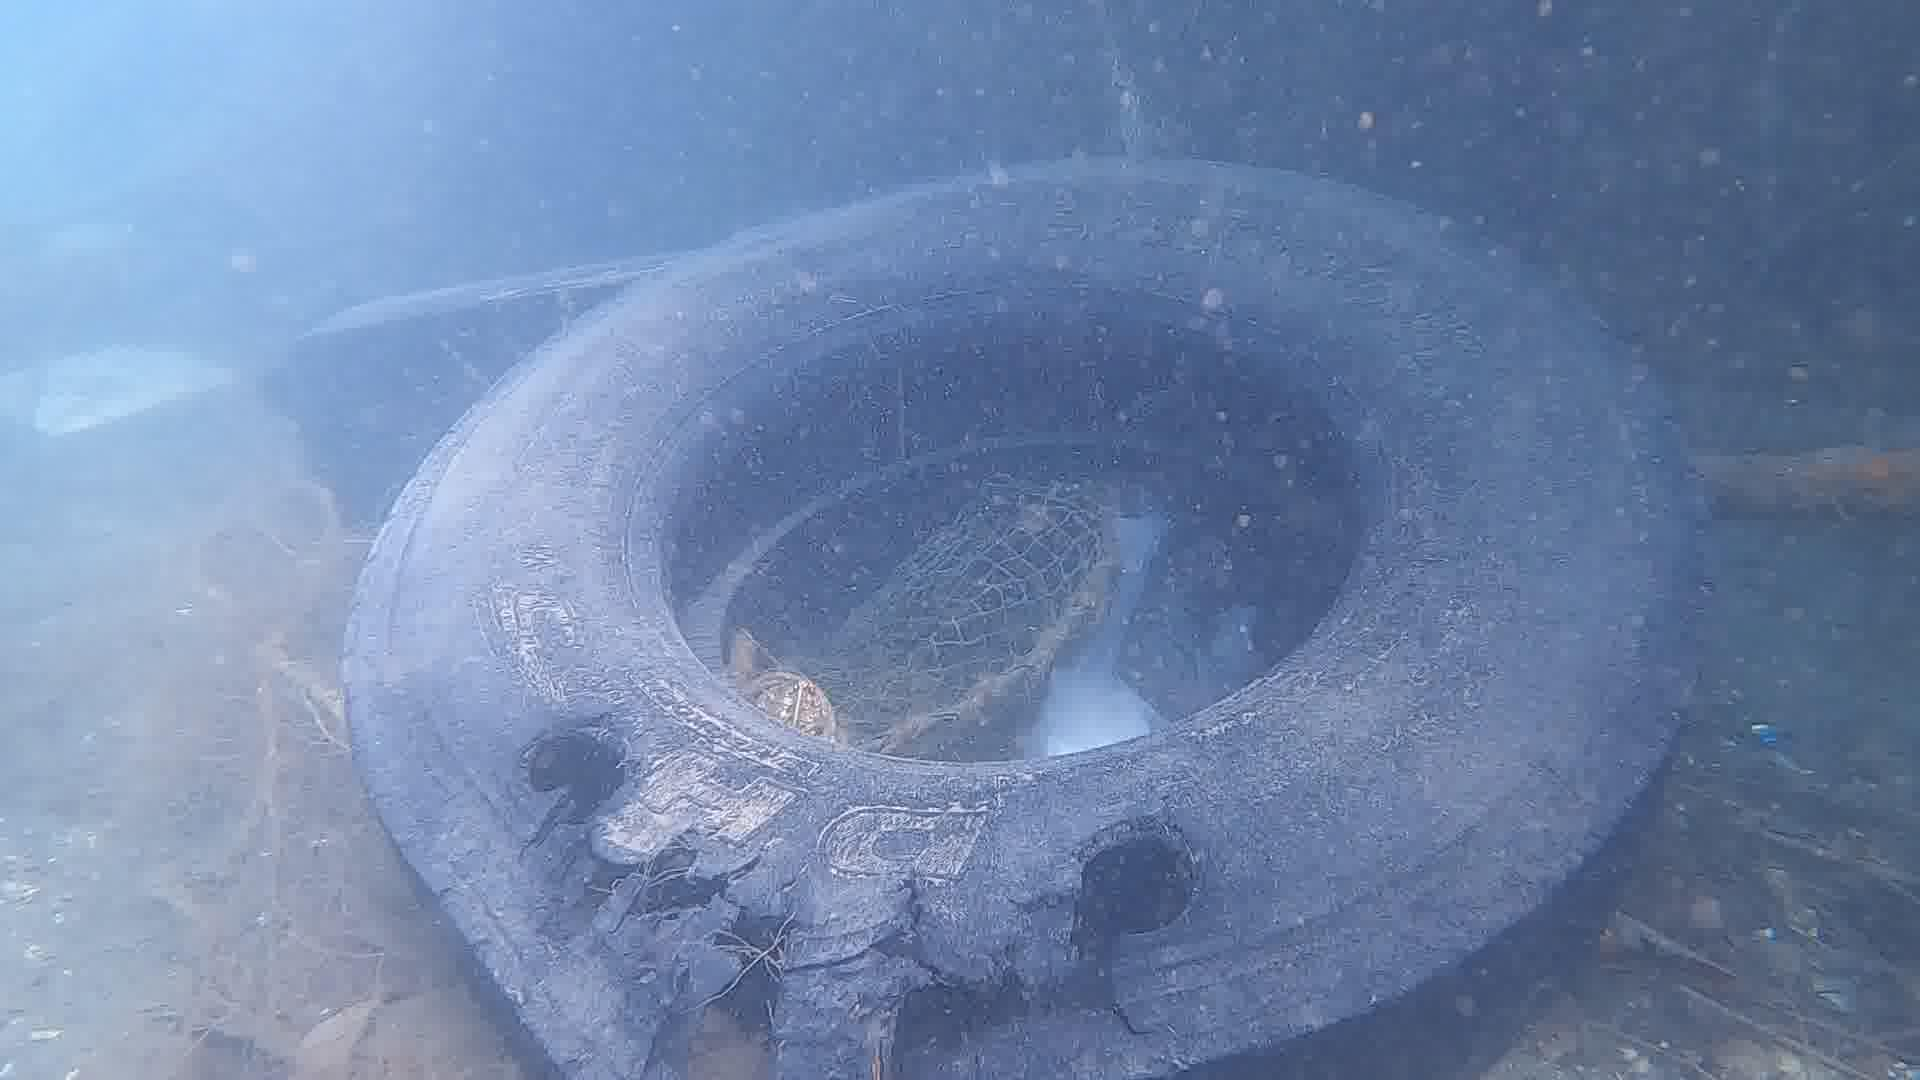fish net: (825, 483, 1106, 725)
tire: (342, 152, 1706, 1080)
